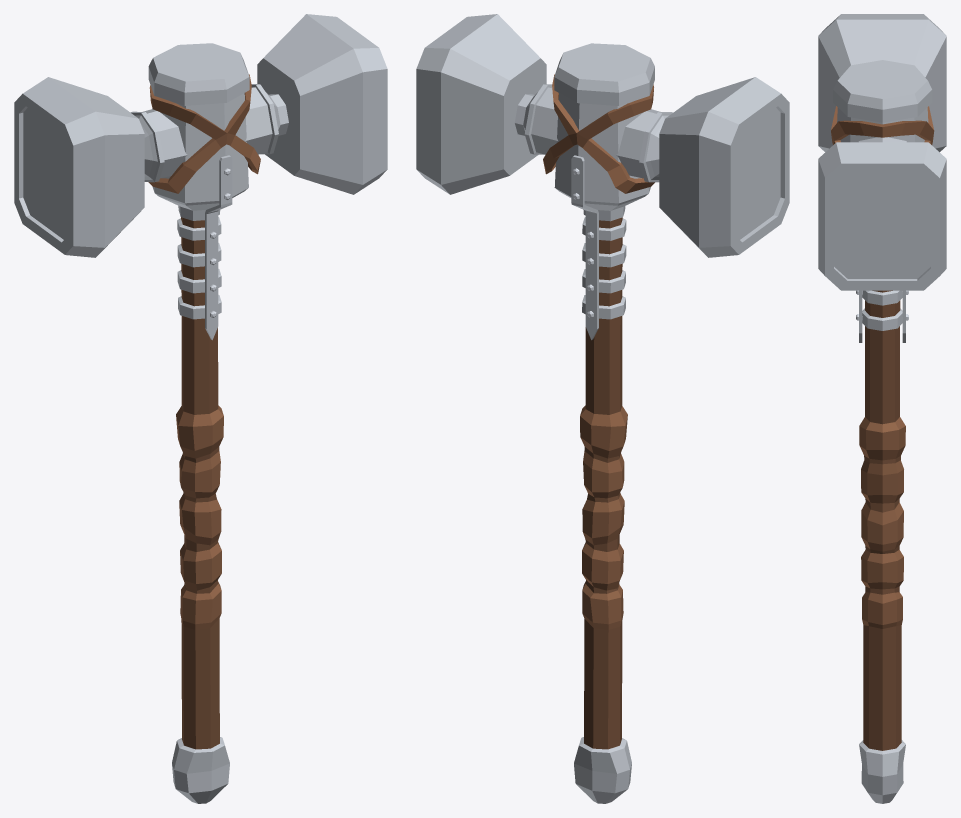
Rendered from Hero_Warhammer-1-RJoghu.glb.
3 renders of one model, left to right at view 1: azimuth 30°, elevation 25°; view 2: azimuth 150°, elevation 25°; view 3: azimuth 270°, elevation 25°, orthographic. The views are drawn at different scales.
Visible parts, largest first — view 1: Hero_Warhammer; view 2: Hero_Warhammer; view 3: Hero_Warhammer.
Boxes of the visible parts, left/top/right/bottom form: Hero_Warhammer: left=14, top=14, right=387, bottom=803; Hero_Warhammer: left=416, top=14, right=789, bottom=803; Hero_Warhammer: left=818, top=14, right=946, bottom=803.
Bounding box in the file's own units: 0.8868 × 1.99 × 0.3223.
